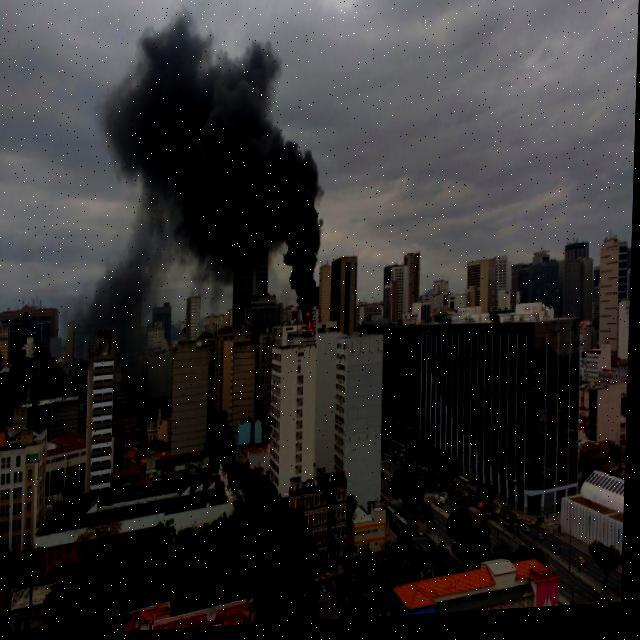Fire: (305, 314, 313, 335)
